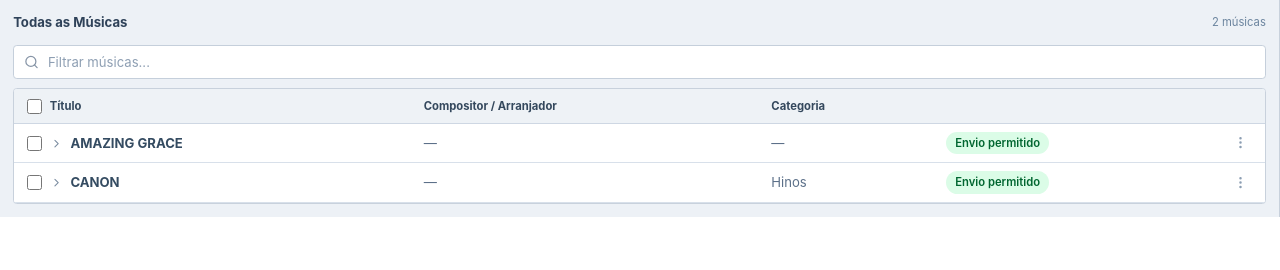
SongsList › shows scores after loading and scrolls only after they are ready
Click the text "CANON".
click(95, 183)  # box x1=70 y1=173 x2=120 y2=192
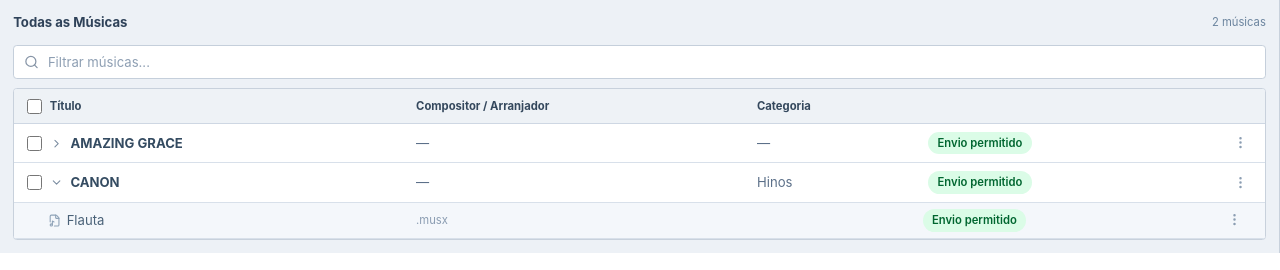
Result: the text "Flauta" is shown at x1=48 y1=212 x2=104 y2=228
